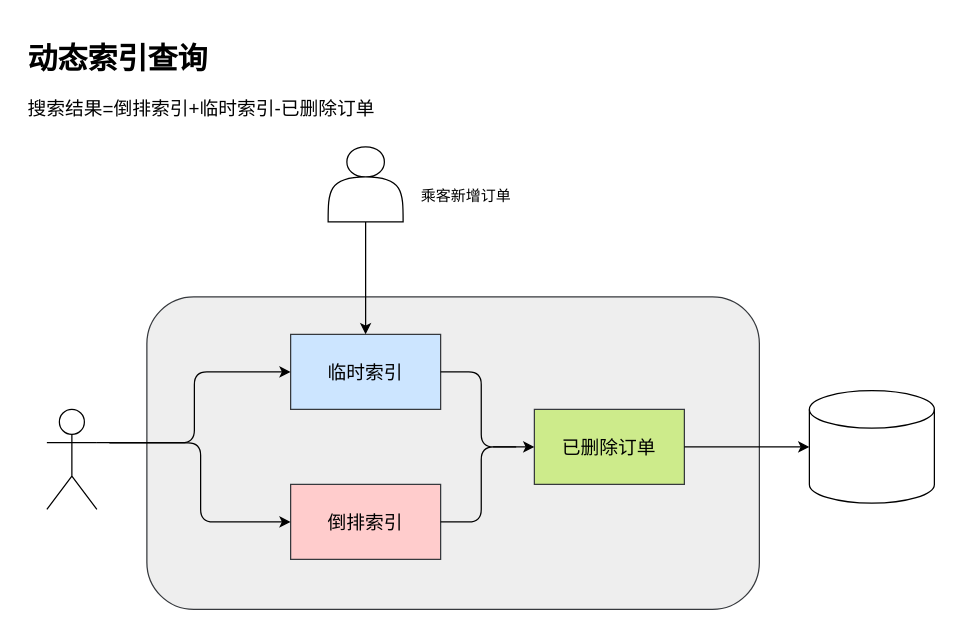
Some shapes in this 956 by 631 pixel diagram are drawn without their labels. Here are the shapes that lost their labels. From the top down, the box of each, then its label:
(46, 408, 97, 509): 司机
(808, 389, 934, 503): 搜索结果
